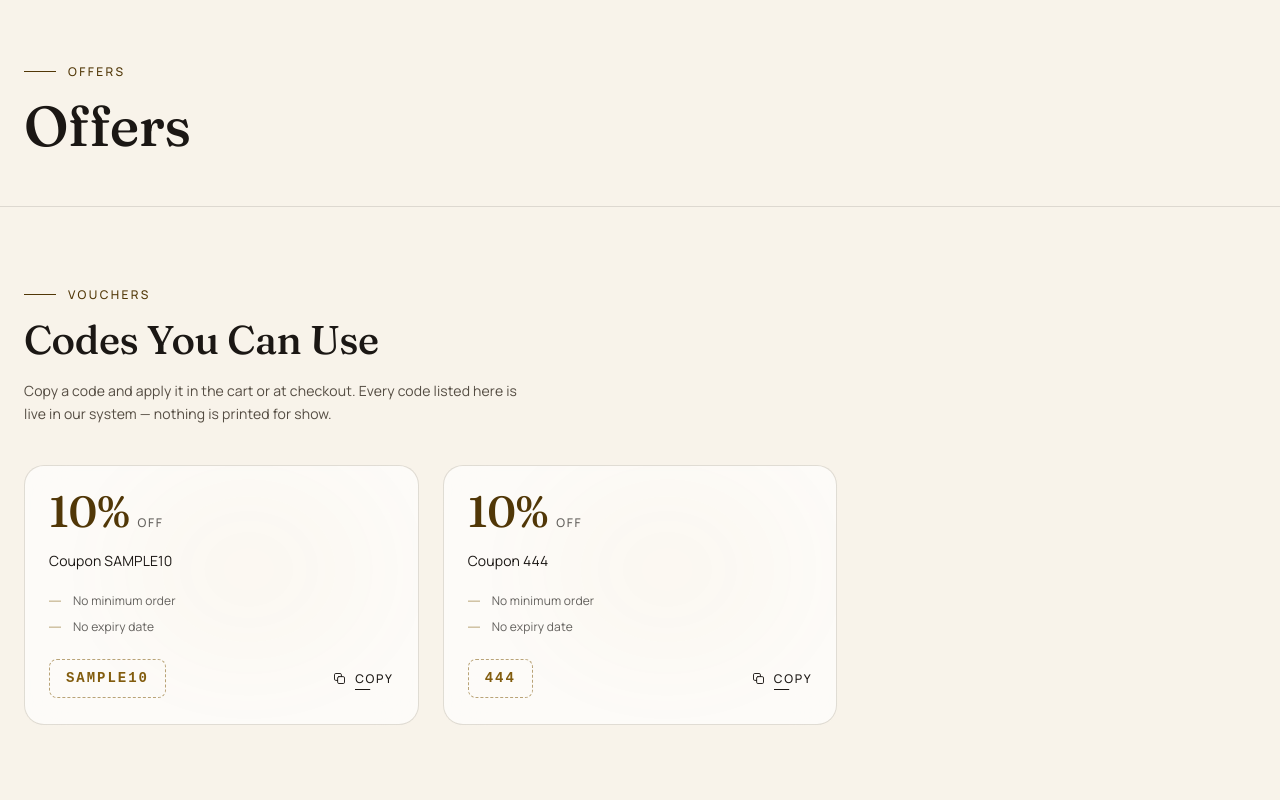
Test: the voucher Copy control › copies the code and says so, where the page has the Clipboard API
Click the button with aria-label "Copy coupon code SAMPLE10" at [363, 678], box [324,656,402,700]
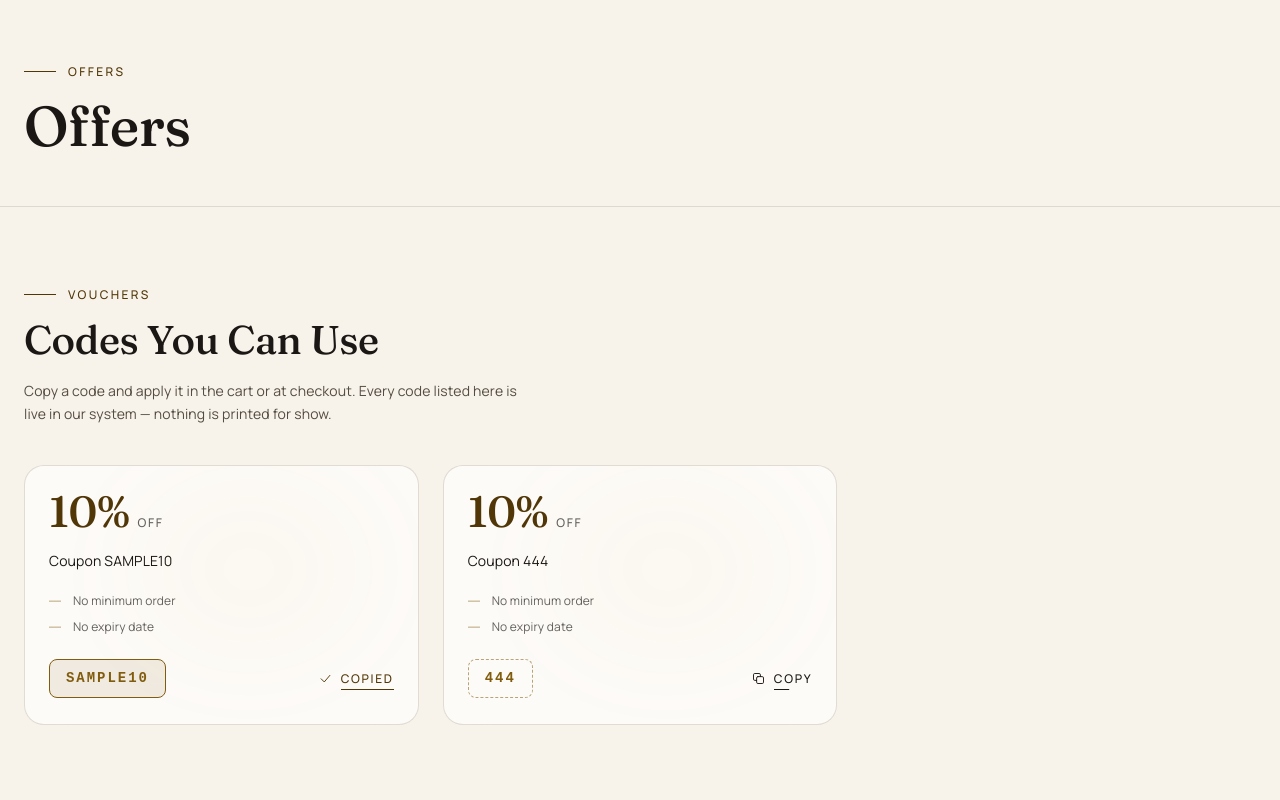
Check: the text "SAMPLE10" is shown, box [49,659,166,698]
Check: the text "Copied" is shown, box [341,671,394,686]
Check: the button with aria-label "Copy coupon code SAMPLE10" reads "Copied", box [310,656,402,700]
